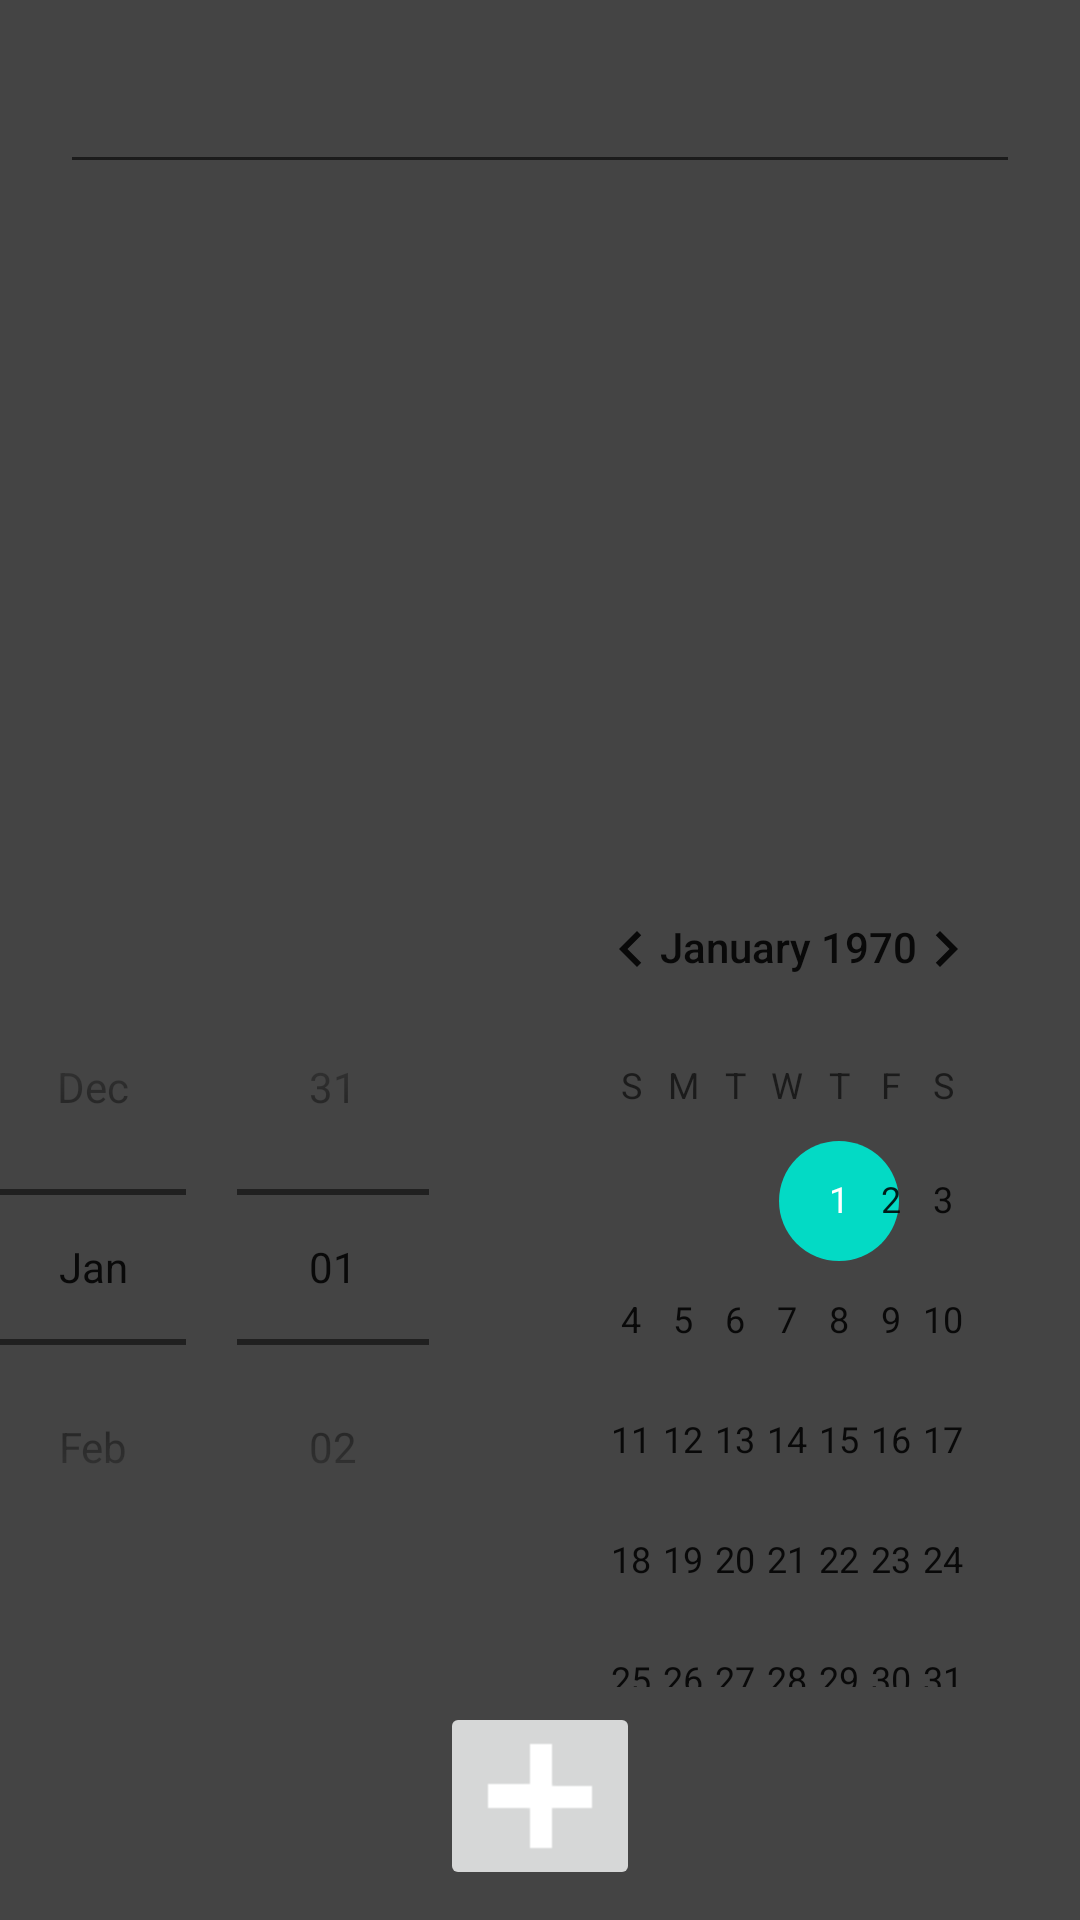

Where icons sit on this 1080px×1920px app screen, as (x1, y1, x2, y2):
add: (452, 1720, 628, 1872)
